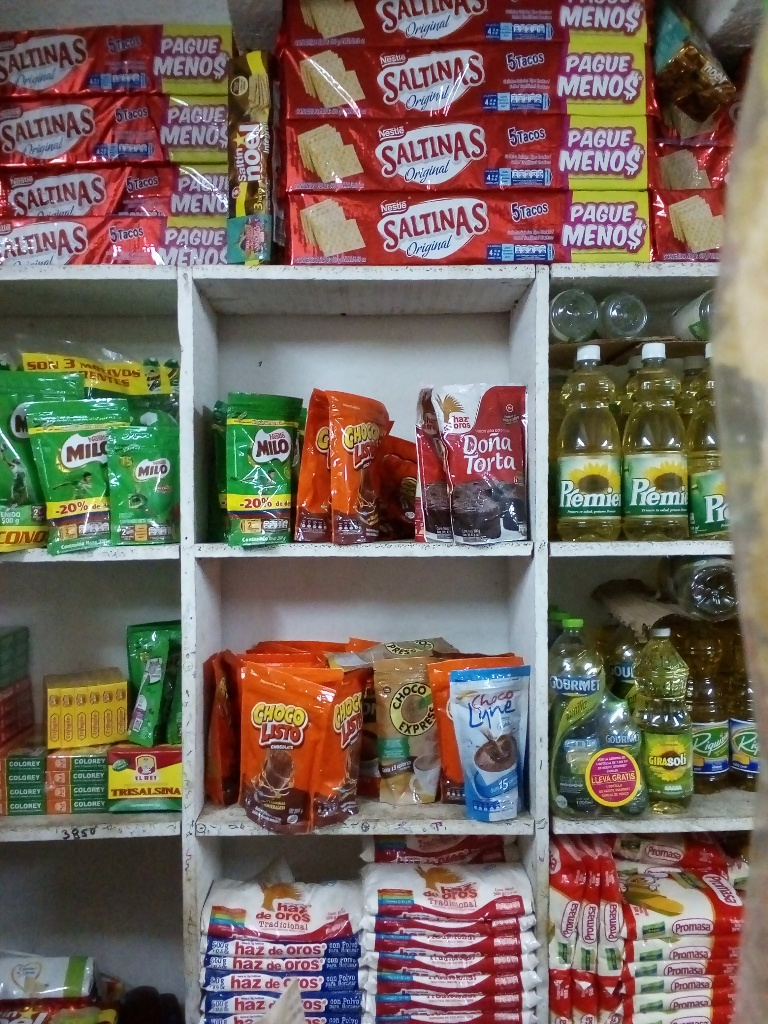COL0170203DYP10000: (106, 422, 181, 548)
